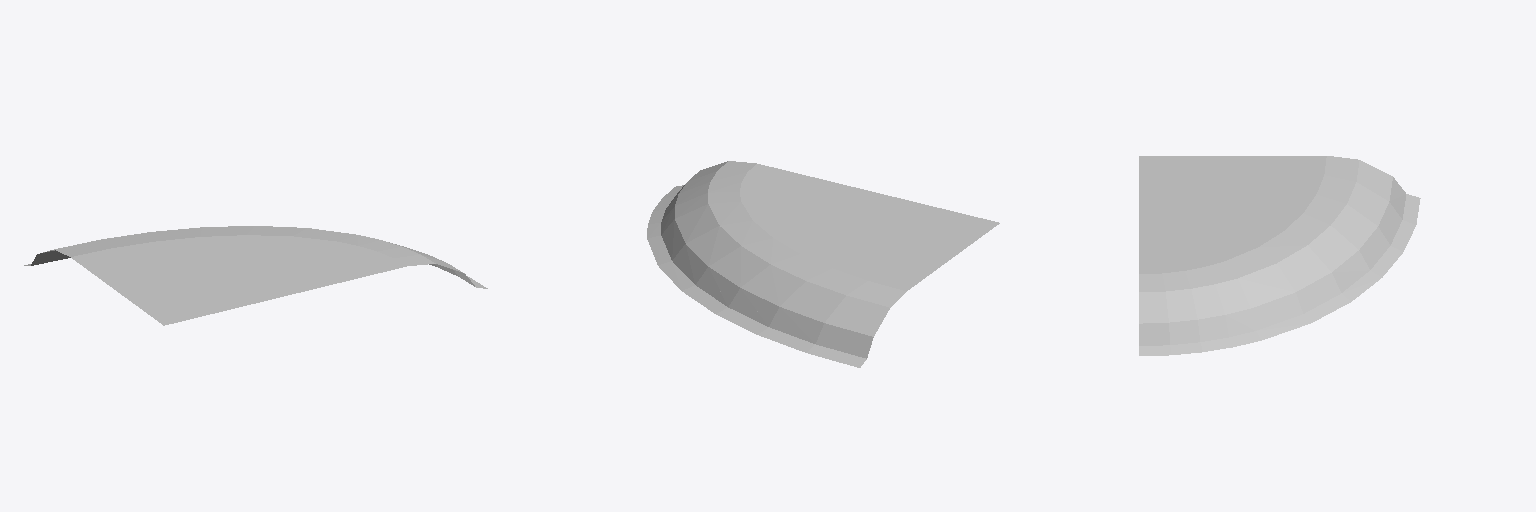
The model's file is Track_Normal_Curve_Inner_3x4.obj.
3 views of the same model, side by side, from view 1: azimuth 30°, elevation 25°; view 2: azimuth 150°, elevation 25°; view 3: azimuth 270°, elevation 25° (orthographic).
Visible parts, largest first — view 1: object1; view 2: object1; view 3: object1.
Part boxes in pixels (left/top/right/bottom): object1: left=24, top=226, right=487, bottom=325; object1: left=647, top=161, right=999, bottom=367; object1: left=1139, top=156, right=1420, bottom=355.
Size of the model in its own units: 4 by 0.5 by 3.